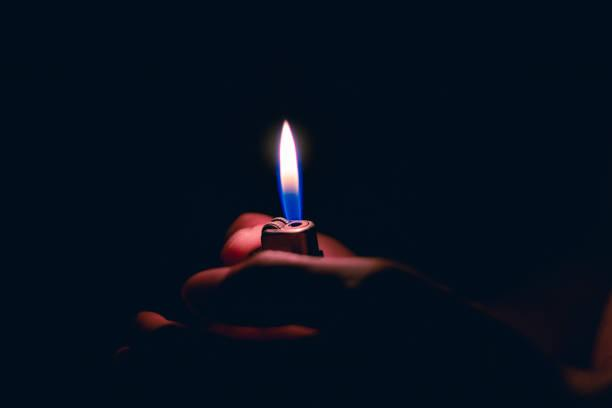Fire: (274, 112, 306, 221)
